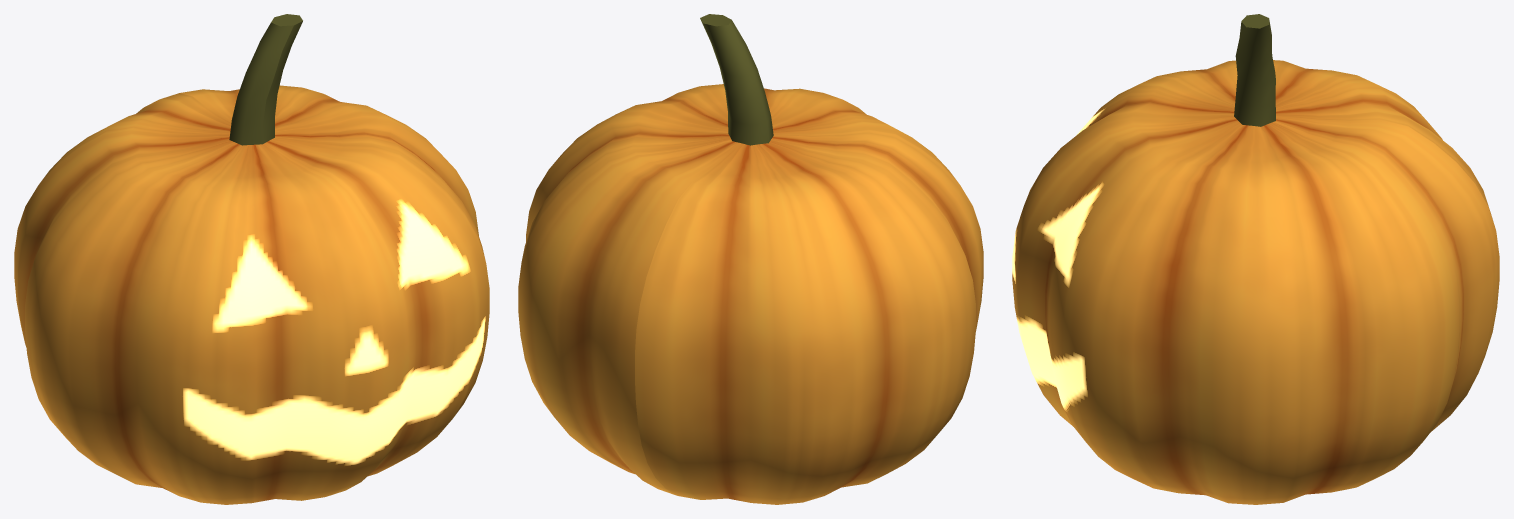
The model's file is pip.glb.
3 views of the same model, side by side, from view 1: azimuth 30°, elevation 25°; view 2: azimuth 150°, elevation 25°; view 3: azimuth 270°, elevation 25° (orthographic). The views are drawn at different scales.
Visible parts, largest first — view 1: body, stem; view 2: body, stem; view 3: body, stem.
Boxes of the visible parts, x1,y1,x2,y2 form: body: (14, 85, 489, 504); stem: (229, 14, 302, 145); body: (518, 84, 983, 504); stem: (700, 14, 773, 145); body: (1012, 60, 1499, 504); stem: (1234, 14, 1275, 126).
Size of the model in its own units: 1.21 by 1.16 by 1.15.
Materials: 2 (1 with a texture image).
